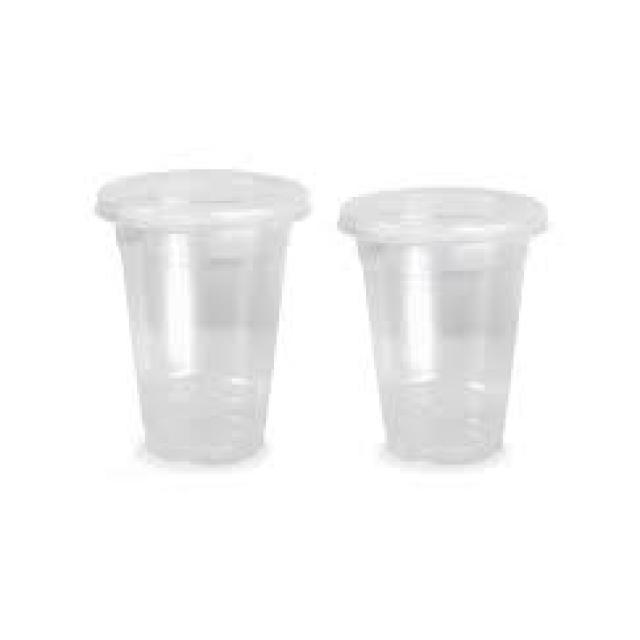cup: (75, 128, 308, 476), (342, 164, 540, 472)
